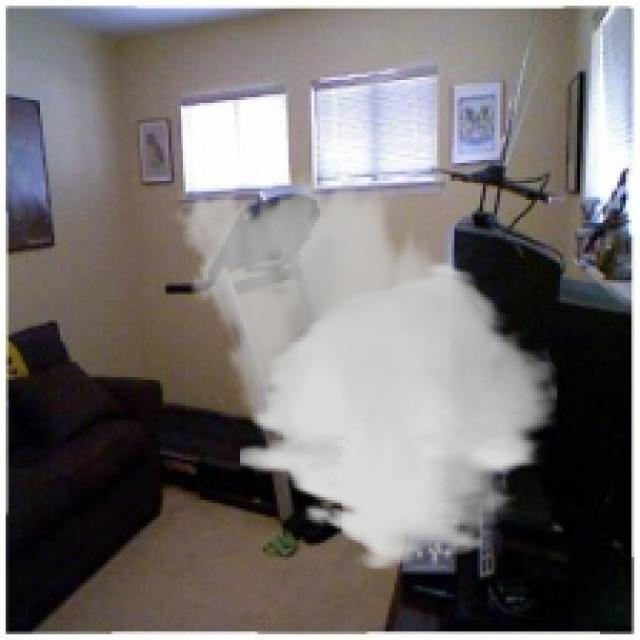smoke: (166, 168, 557, 572)
